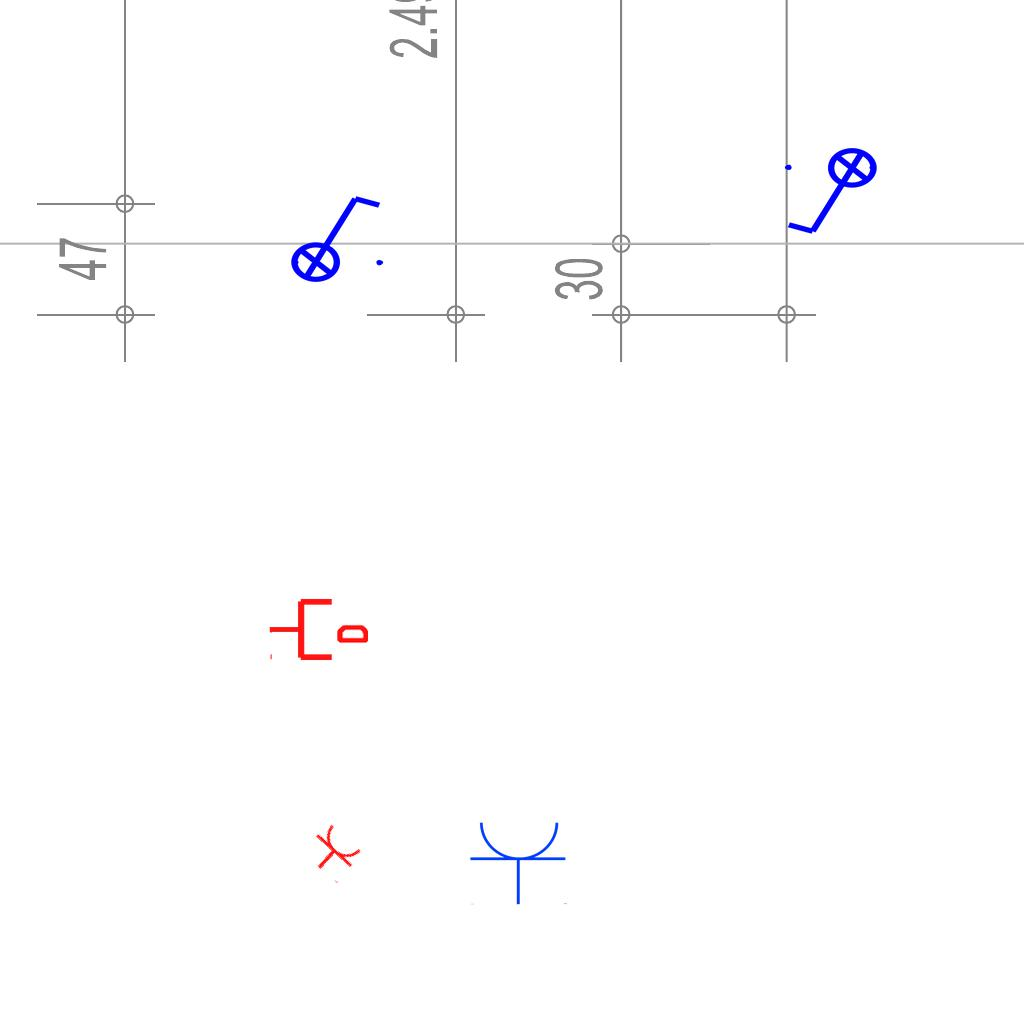Ausschalter_beleuchtet: (779, 146, 891, 242), (277, 188, 389, 284)
Datenanschluss_einfach: (268, 595, 368, 664)
Schukosteckdose_einfach: (469, 818, 569, 905), (300, 820, 367, 886)
